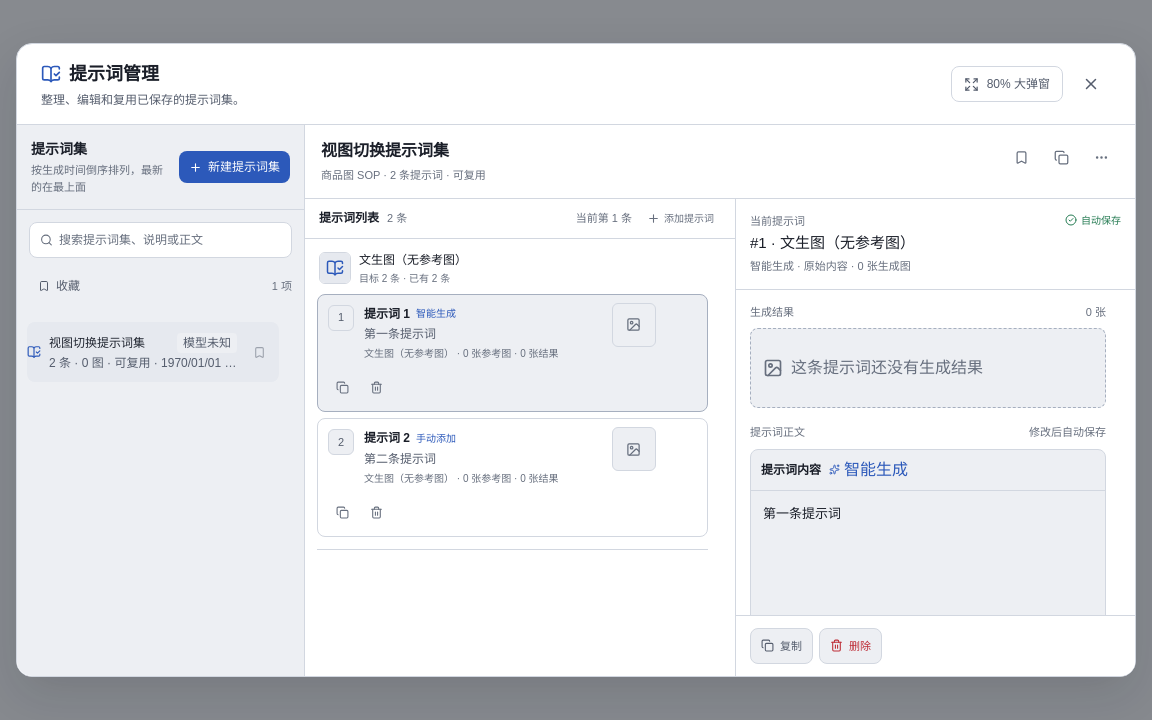
GallerySopBatchModal background generation › keeps the selected prompt in the detail pane without a redundant result view
Click the button "2 提示词 2 手动添加 第二条提示词 文生图（无参考图） · 0 张参考图 · 0 张结果" at (443, 458), box [326, 428, 560, 488]
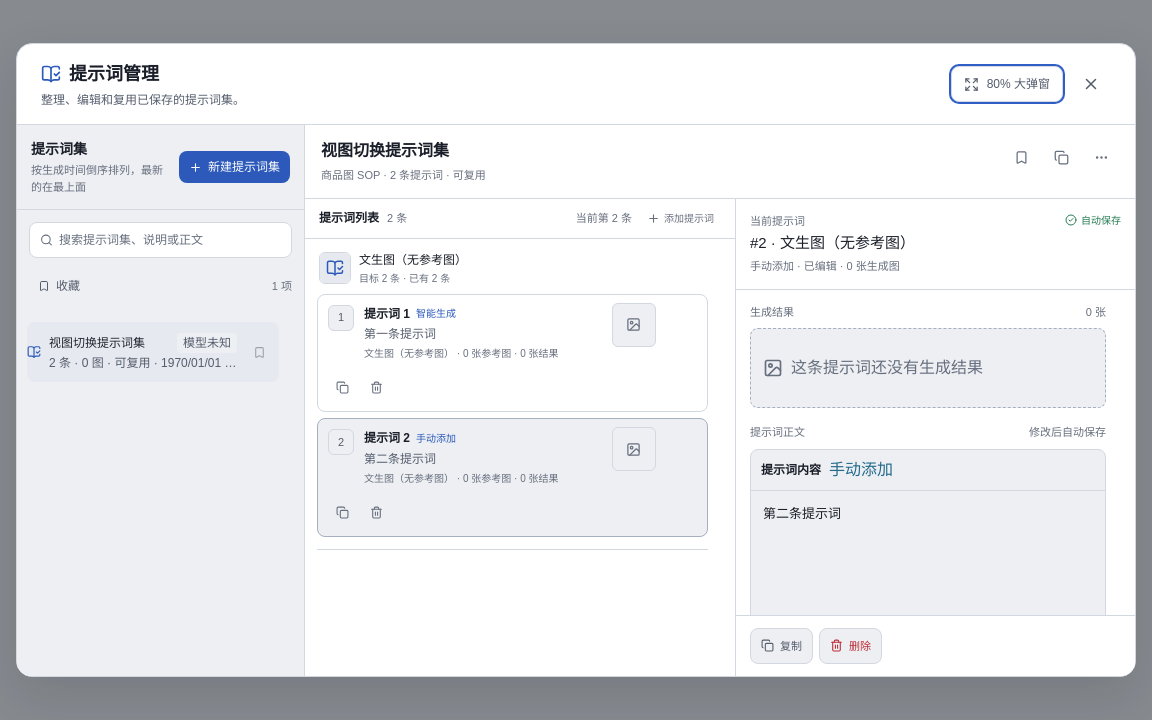
expect the text box named "第 2 条提示词" holds "第二条提示词": met, box [751, 491, 1105, 615]
